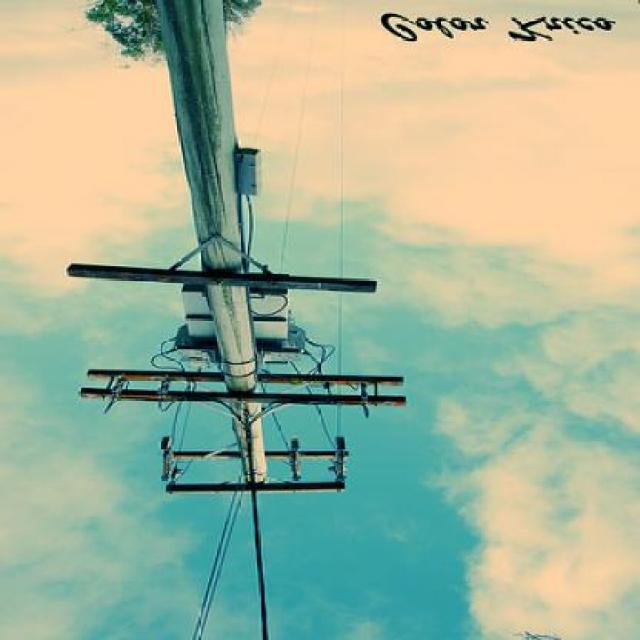pole: (153, 3, 344, 523)
